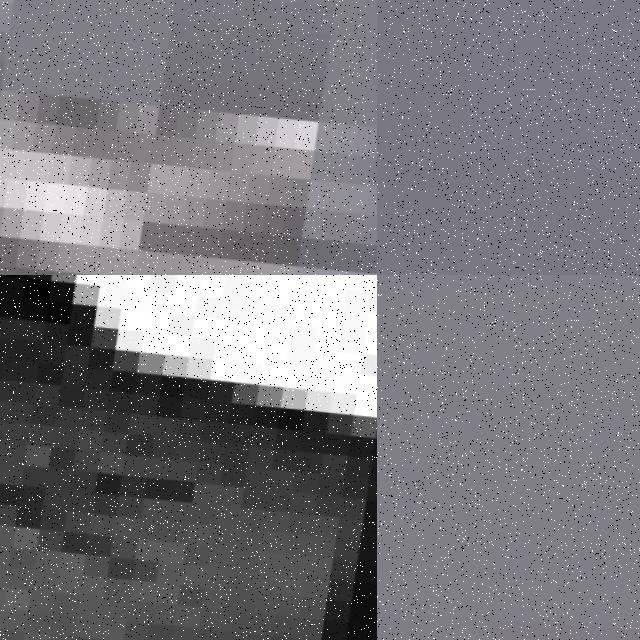drone: (0, 275, 377, 640), (0, 0, 377, 275)
